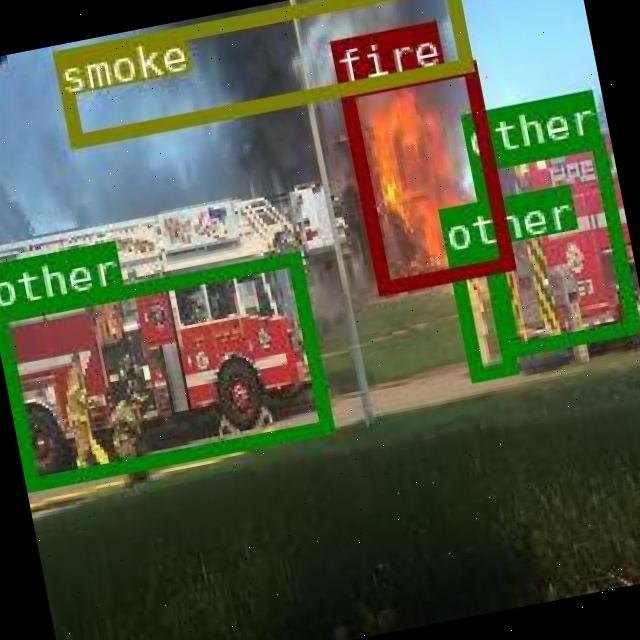fire: (338, 60, 512, 292)
smoke: (50, 0, 469, 146)
